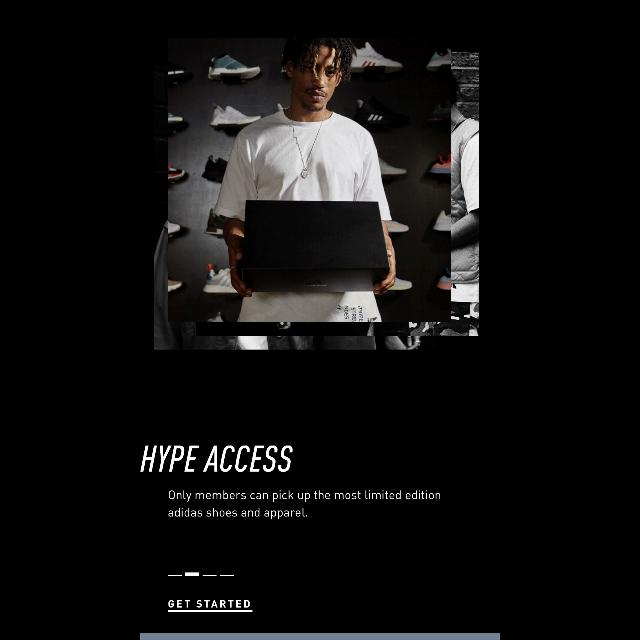image: (154, 39, 480, 349)
pageindicator: (168, 572, 234, 576)
text: (168, 490, 440, 520), (140, 446, 294, 472), (168, 600, 252, 612)
